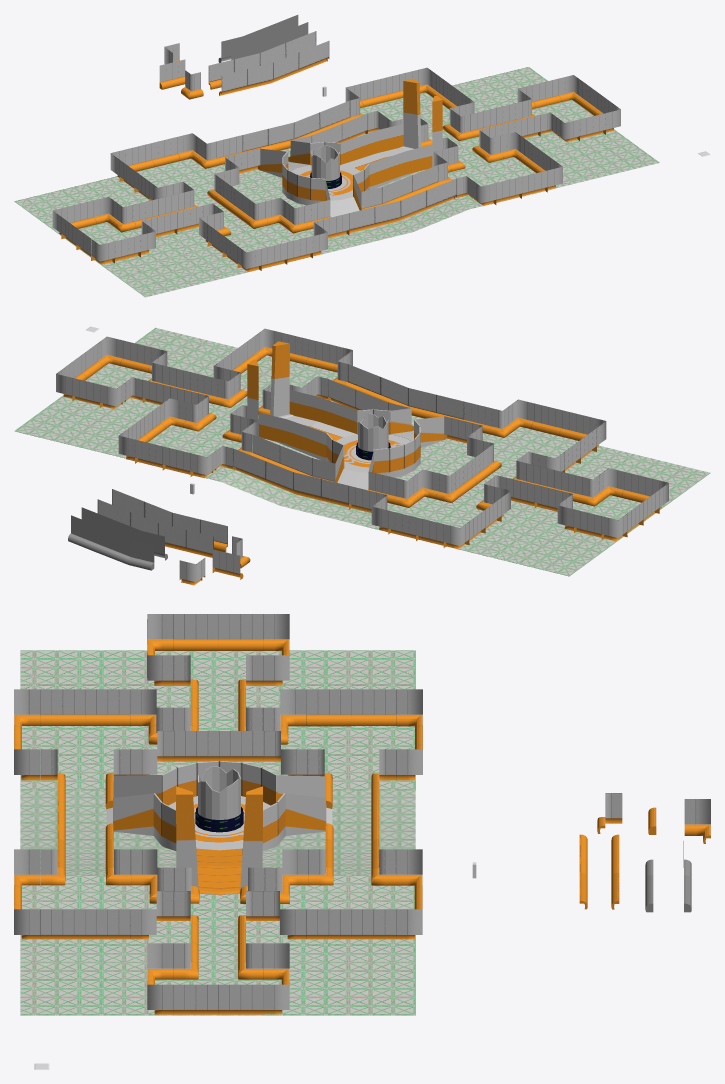
File: Level design new.FBX
3 renders of one model, top to bottom at view 1: azimuth 30°, elevation 25°; view 2: azimuth 150°, elevation 25°; view 3: azimuth 270°, elevation 25°, orthographic. The views are drawn at different scales.
Parts seen in each view (by area): view 1: Plane223, Plane219, Plane222, Cylinder005, Plane135, Plane193, Plane194, Plane010, Plane162, Plane220, Plane221, Object005 (+49 smaller); view 2: Plane223, Plane219, Plane222, Cylinder005, Plane194, Plane135, Plane118, Plane010, Plane193, Plane134, Plane221, Plane220 (+56 smaller); view 3: Plane219, Plane223, Plane222, Cylinder005, Cylinder004, Object004, Plane142, Plane143, Plane173, Plane174, Plane186, Object006 (+46 smaller).
Boxes of the visible parts, left/top/right/bottom form: Plane223: left=14, top=158, right=335, bottom=297; Plane219: left=360, top=67, right=659, bottom=209; Plane222: left=219, top=133, right=468, bottom=250; Cylinder005: left=282, top=142, right=369, bottom=205; Plane135: left=242, top=100, right=351, bottom=152; Plane193: left=219, top=41, right=329, bottom=95; Plane194: left=346, top=178, right=456, bottom=233; Plane010: left=208, top=31, right=316, bottom=89; Plane162: left=361, top=165, right=440, bottom=209; Plane220: left=369, top=145, right=432, bottom=186; Plane221: left=341, top=124, right=403, bottom=164; Object005: left=403, top=79, right=421, bottom=148; Plane223: left=364, top=426, right=710, bottom=576; Plane219: left=14, top=327, right=337, bottom=481; Plane222: left=220, top=400, right=488, bottom=526; Cylinder005: left=326, top=409, right=420, bottom=477; Plane194: left=345, top=364, right=463, bottom=420; Plane135: left=233, top=448, right=348, bottom=507; Plane118: left=68, top=515, right=154, bottom=570; Plane010: left=97, top=499, right=213, bottom=557; Plane193: left=112, top=489, right=227, bottom=552; Plane134: left=250, top=434, right=335, bottom=482; Plane221: left=259, top=412, right=326, bottom=457; Plane220: left=289, top=390, right=356, bottom=433; Plane219: left=20, top=875, right=415, bottom=1015; Plane223: left=20, top=650, right=415, bottom=790; Plane222: left=20, top=790, right=415, bottom=874; Cylinder005: left=153, top=761, right=285, bottom=851; Cylinder004: left=195, top=766, right=243, bottom=832; Object004: left=196, top=848, right=242, bottom=895; Plane142: left=307, top=689, right=351, bottom=726; Plane143: left=351, top=689, right=396, bottom=725; Plane173: left=218, top=614, right=263, bottom=650; Plane174: left=173, top=614, right=218, bottom=650; Plane186: left=40, top=689, right=85, bottom=725; Object006: left=176, top=786, right=198, bottom=887.
Size of the model in its own units: 5265 by 658 by 3675.
